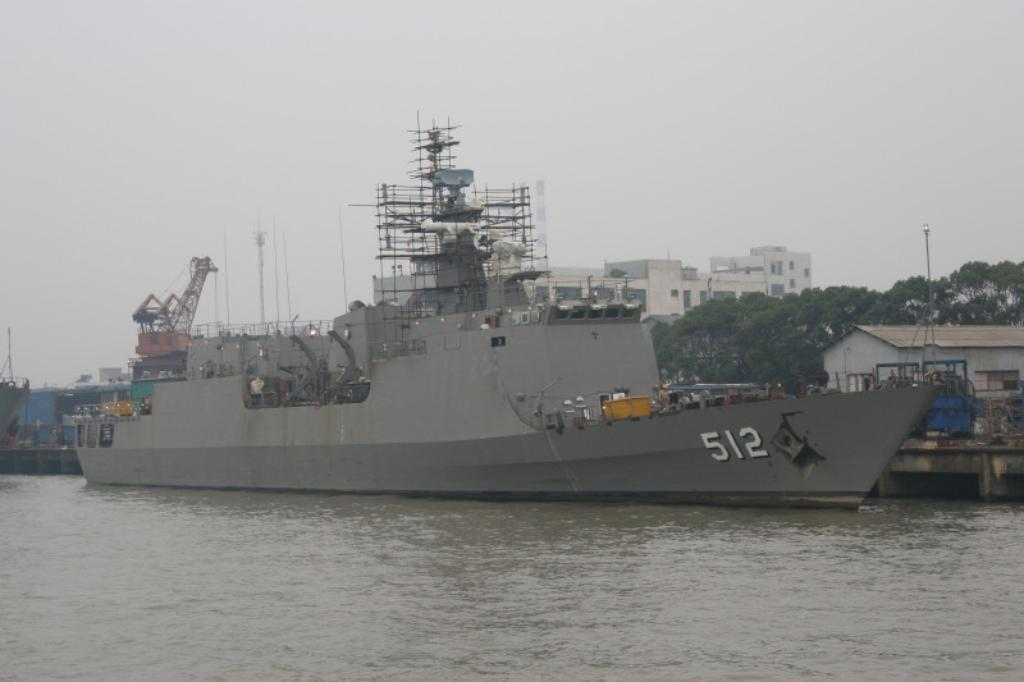Warship: (62, 95, 954, 513)
